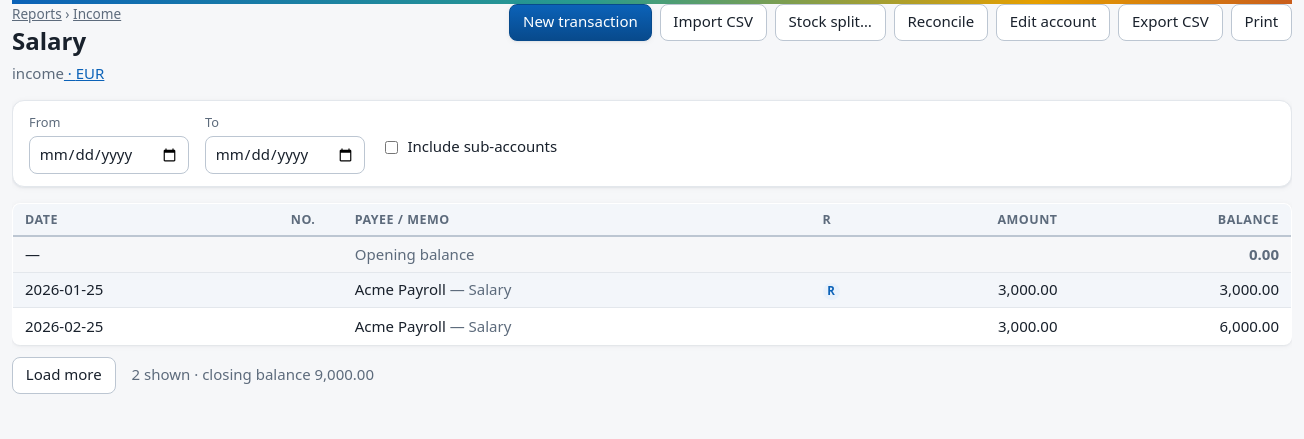
AccountRegisterPage › pages with the server's cursor and only then shows the closing balance
Click the button "Load more": (64, 375) [12,357,116,394]
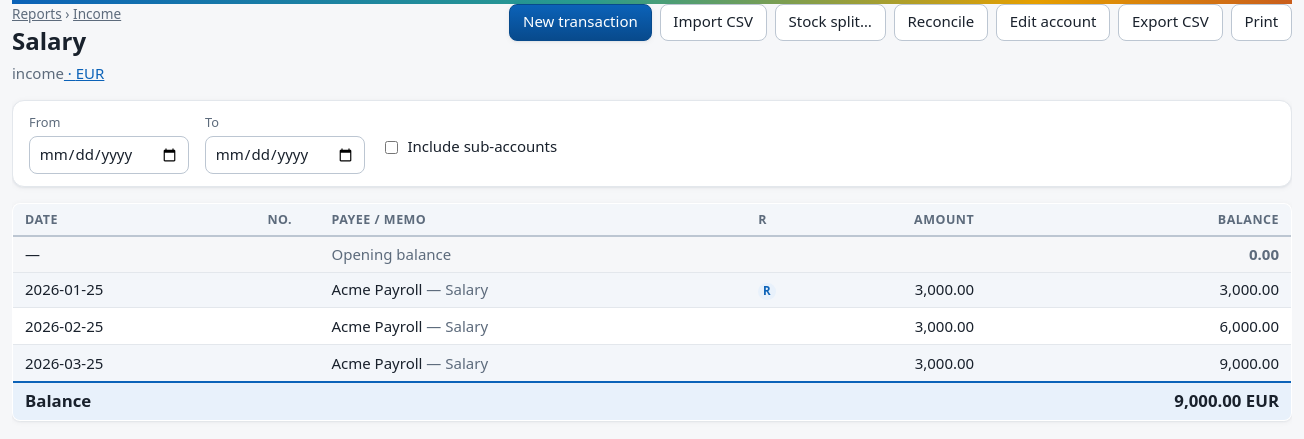
Expected: the column heading "Balance" in the row of "9,000.00 EUR" is shown, [25,389,91,412]
Expected: the link "2026-03-25" is shown, [25,353,103,373]
Expected: the button "Load more" is gone
